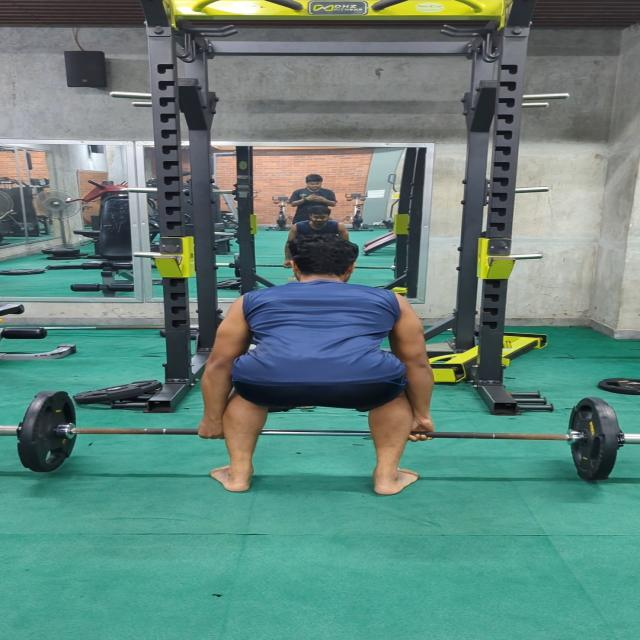Normal_Deadlifts: (163, 207, 461, 503)
